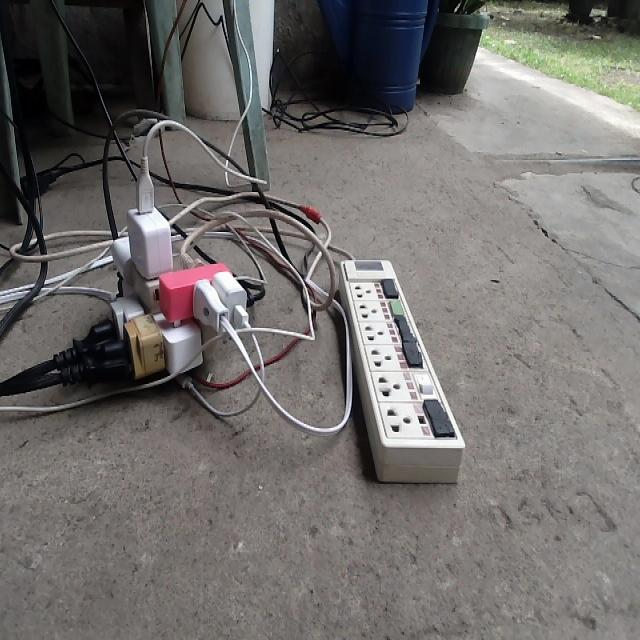-: (52, 151, 254, 392)
